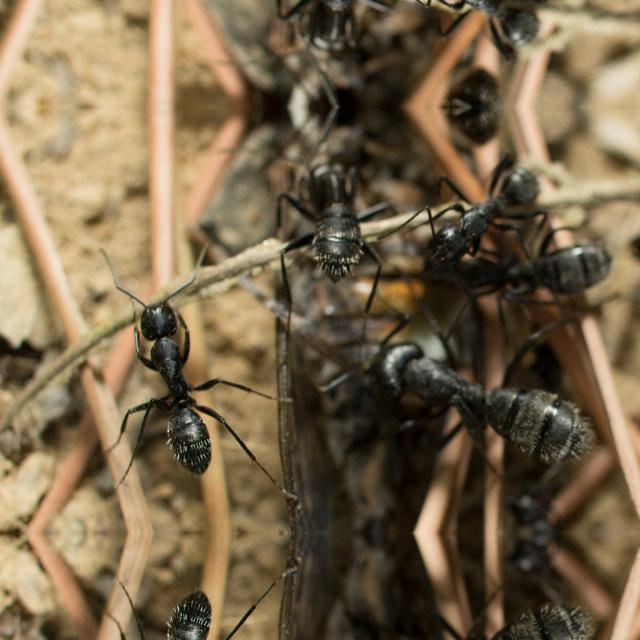Camponotus: (322, 307, 622, 478), (74, 261, 270, 493), (264, 142, 418, 292), (431, 227, 634, 329), (402, 150, 554, 264), (322, 586, 622, 640), (74, 572, 268, 640), (264, 0, 416, 70), (400, 0, 553, 60), (426, 67, 516, 106), (426, 106, 516, 144)
